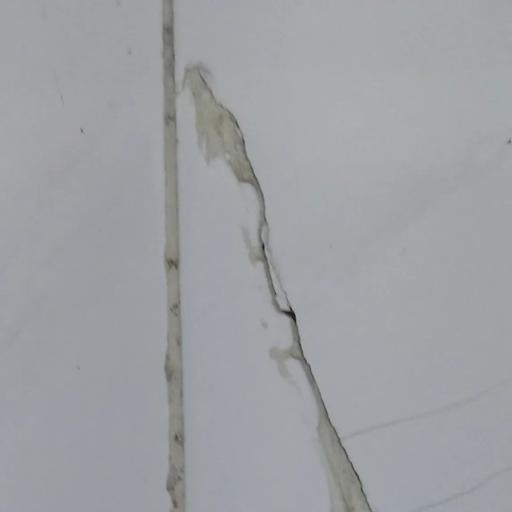peeling: (143, 2, 402, 512)
